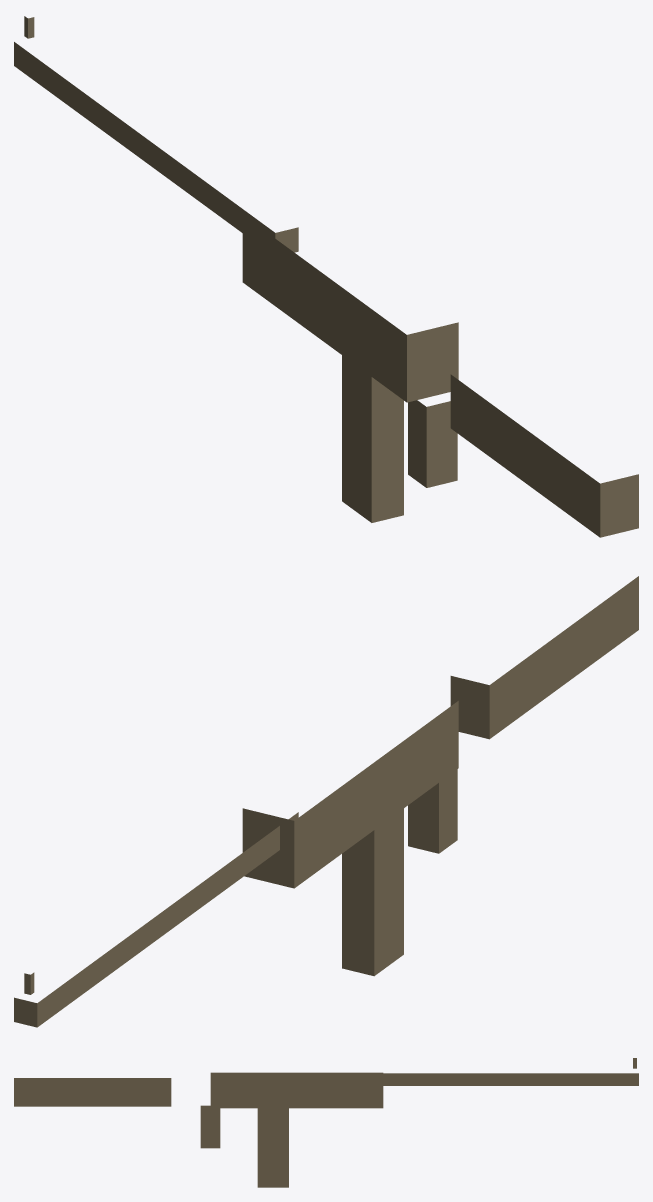
The model's file is ak47_world.glb.
The picture shows the model from 3 angles, top to bottom: view 1: azimuth 30°, elevation 25°; view 2: azimuth 150°, elevation 25°; view 3: azimuth 270°, elevation 25°; orthographic projection. The views are drawn at different scales.
Visible parts, largest first — view 1: WeaponMesh; view 2: WeaponMesh; view 3: WeaponMesh.
Boxes of the visible parts, x1,y1,x2,y2 form: WeaponMesh: (14,16,638,537); WeaponMesh: (14,576,638,1027); WeaponMesh: (14,1058,638,1187).
Size of the model in its own units: 0.04 by 0.1775 by 0.795.
